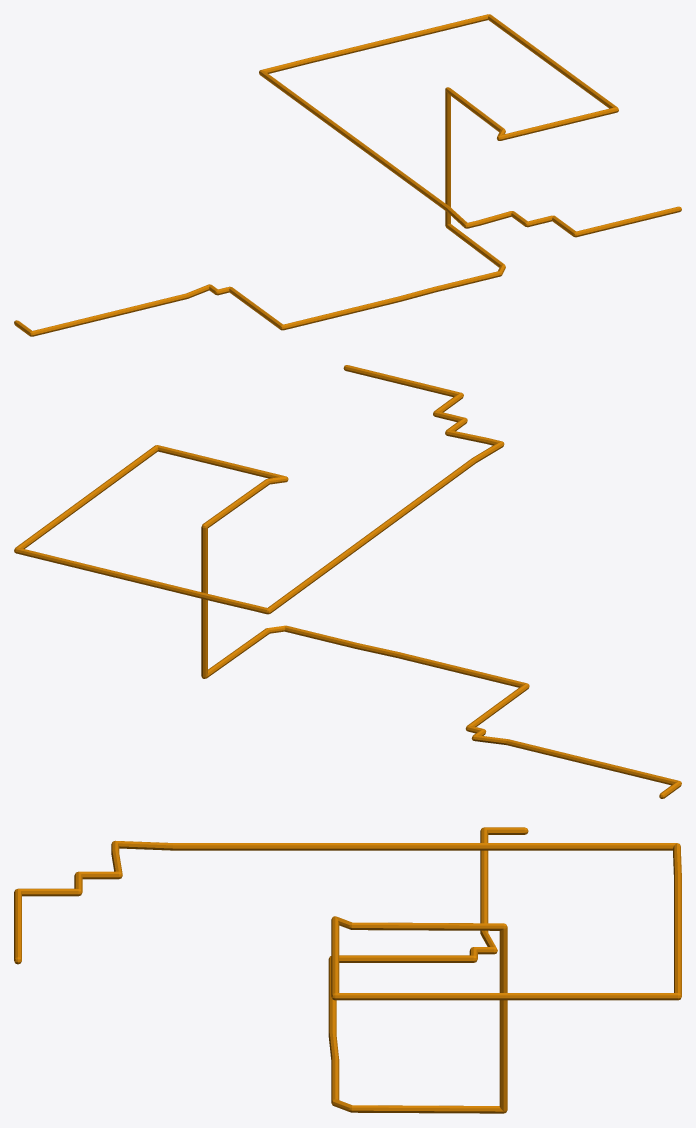
3 renders of one model, top to bottom at view 1: azimuth 30°, elevation 25°; view 2: azimuth 150°, elevation 25°; view 3: azimuth 270°, elevation 25°, orthographic. The views are drawn at different scales.
Bounding box in the file's own units: 2063 × 520 × 1657.
